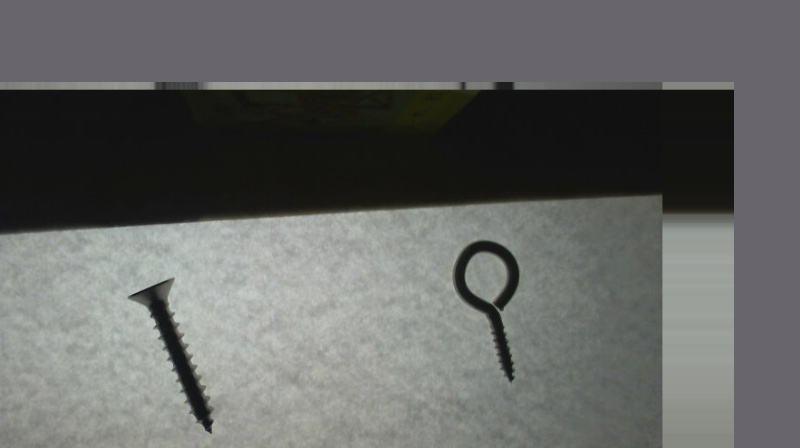O001: (448, 235, 522, 384)
S001: (120, 275, 216, 436)
